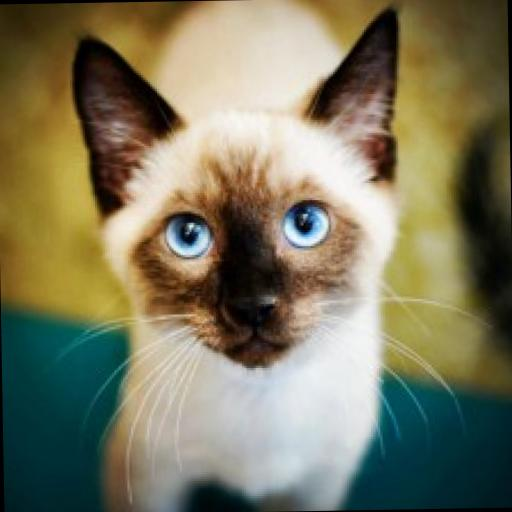cat: (61, 5, 417, 512)
